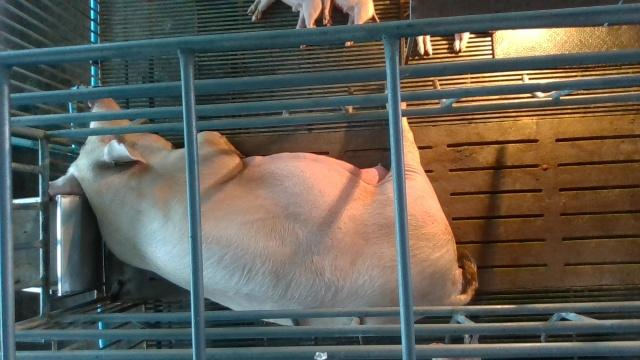piglet: (246, 0, 323, 48), (323, 0, 380, 47)
sow-sleep: (47, 93, 480, 325)
